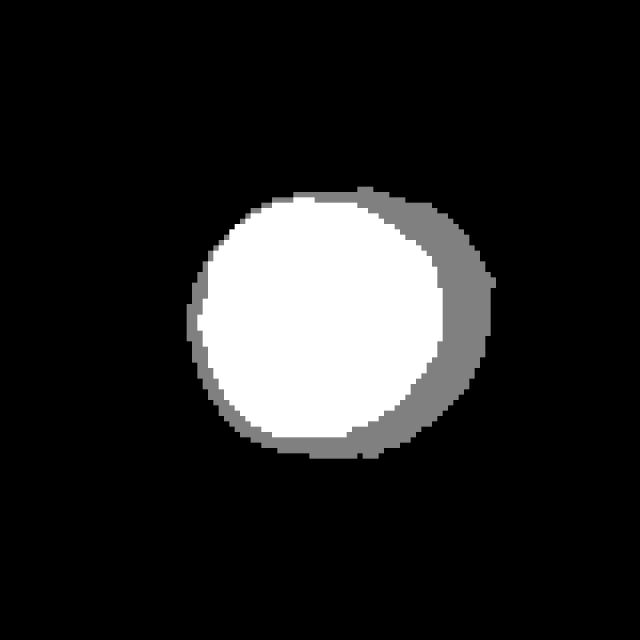WBC: (171, 176, 512, 501)
